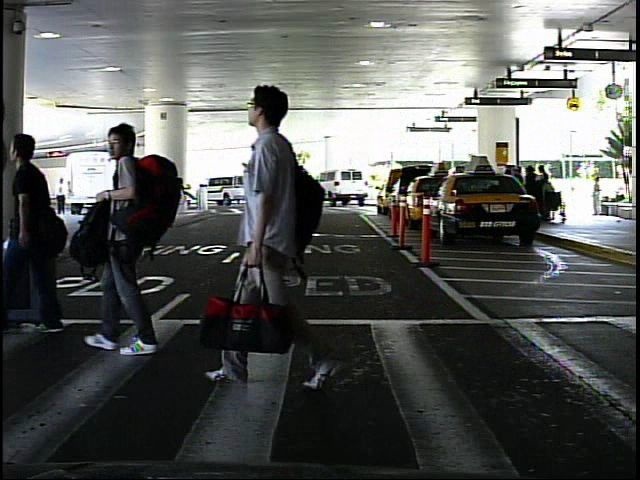person: (219, 69, 334, 392), (79, 116, 182, 360), (8, 115, 80, 355), (588, 173, 607, 219), (55, 171, 71, 215)
